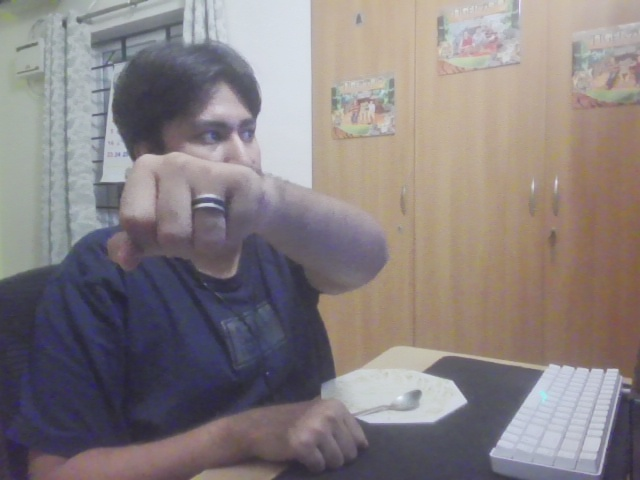yes: (106, 150, 285, 284)
